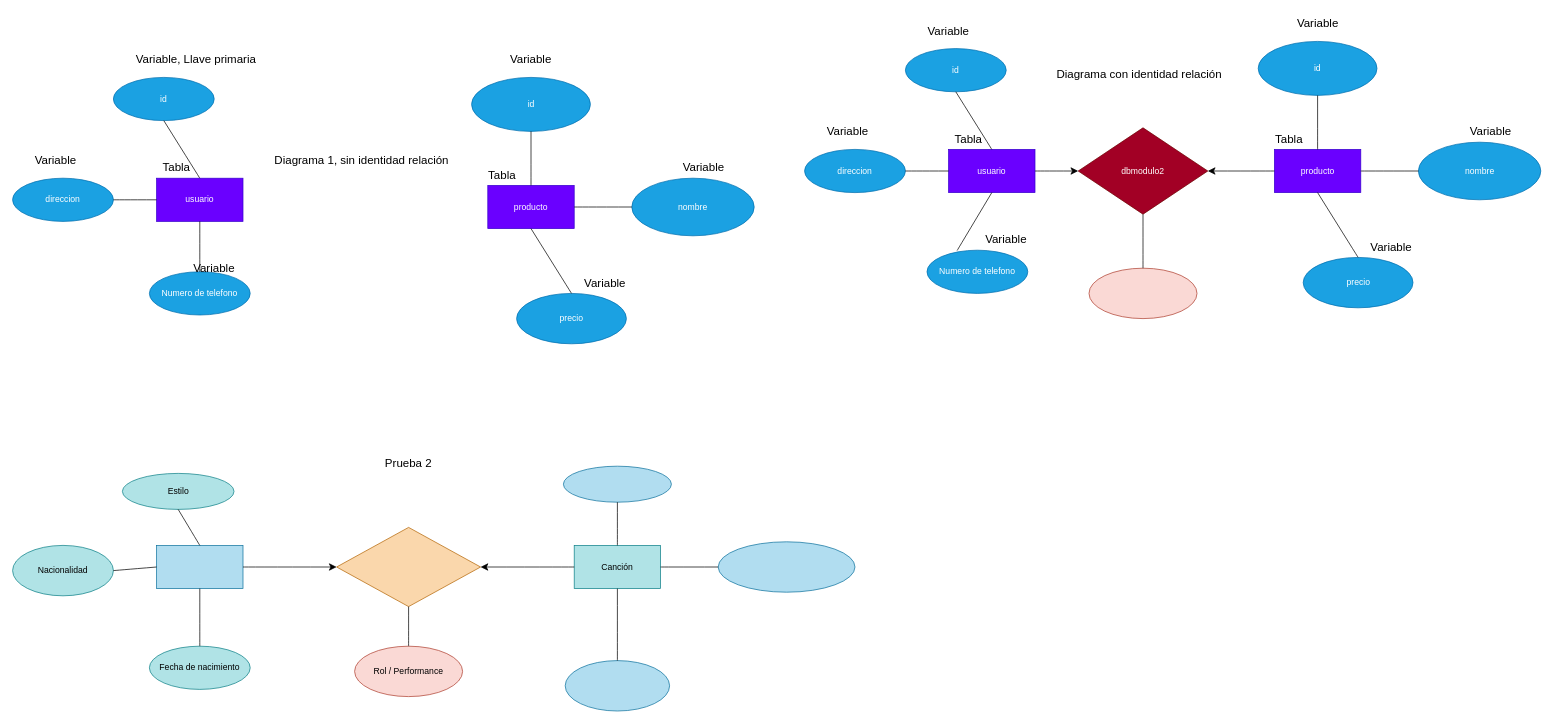
The diagram is 1554 pixels wide and 724 high, and some of its shapes have lost their labels. The shapes that lost their labels are listed below. From the top down, each one's box as (x1, y1, x2, y2) in pixels, then its label:
(1088, 267, 1197, 319): Factura
(563, 465, 671, 502): Tema
(156, 545, 243, 589): Cantante
(336, 527, 481, 607): Interpretación
(717, 541, 855, 592): Fecha de publicación
(564, 660, 670, 711): Género
